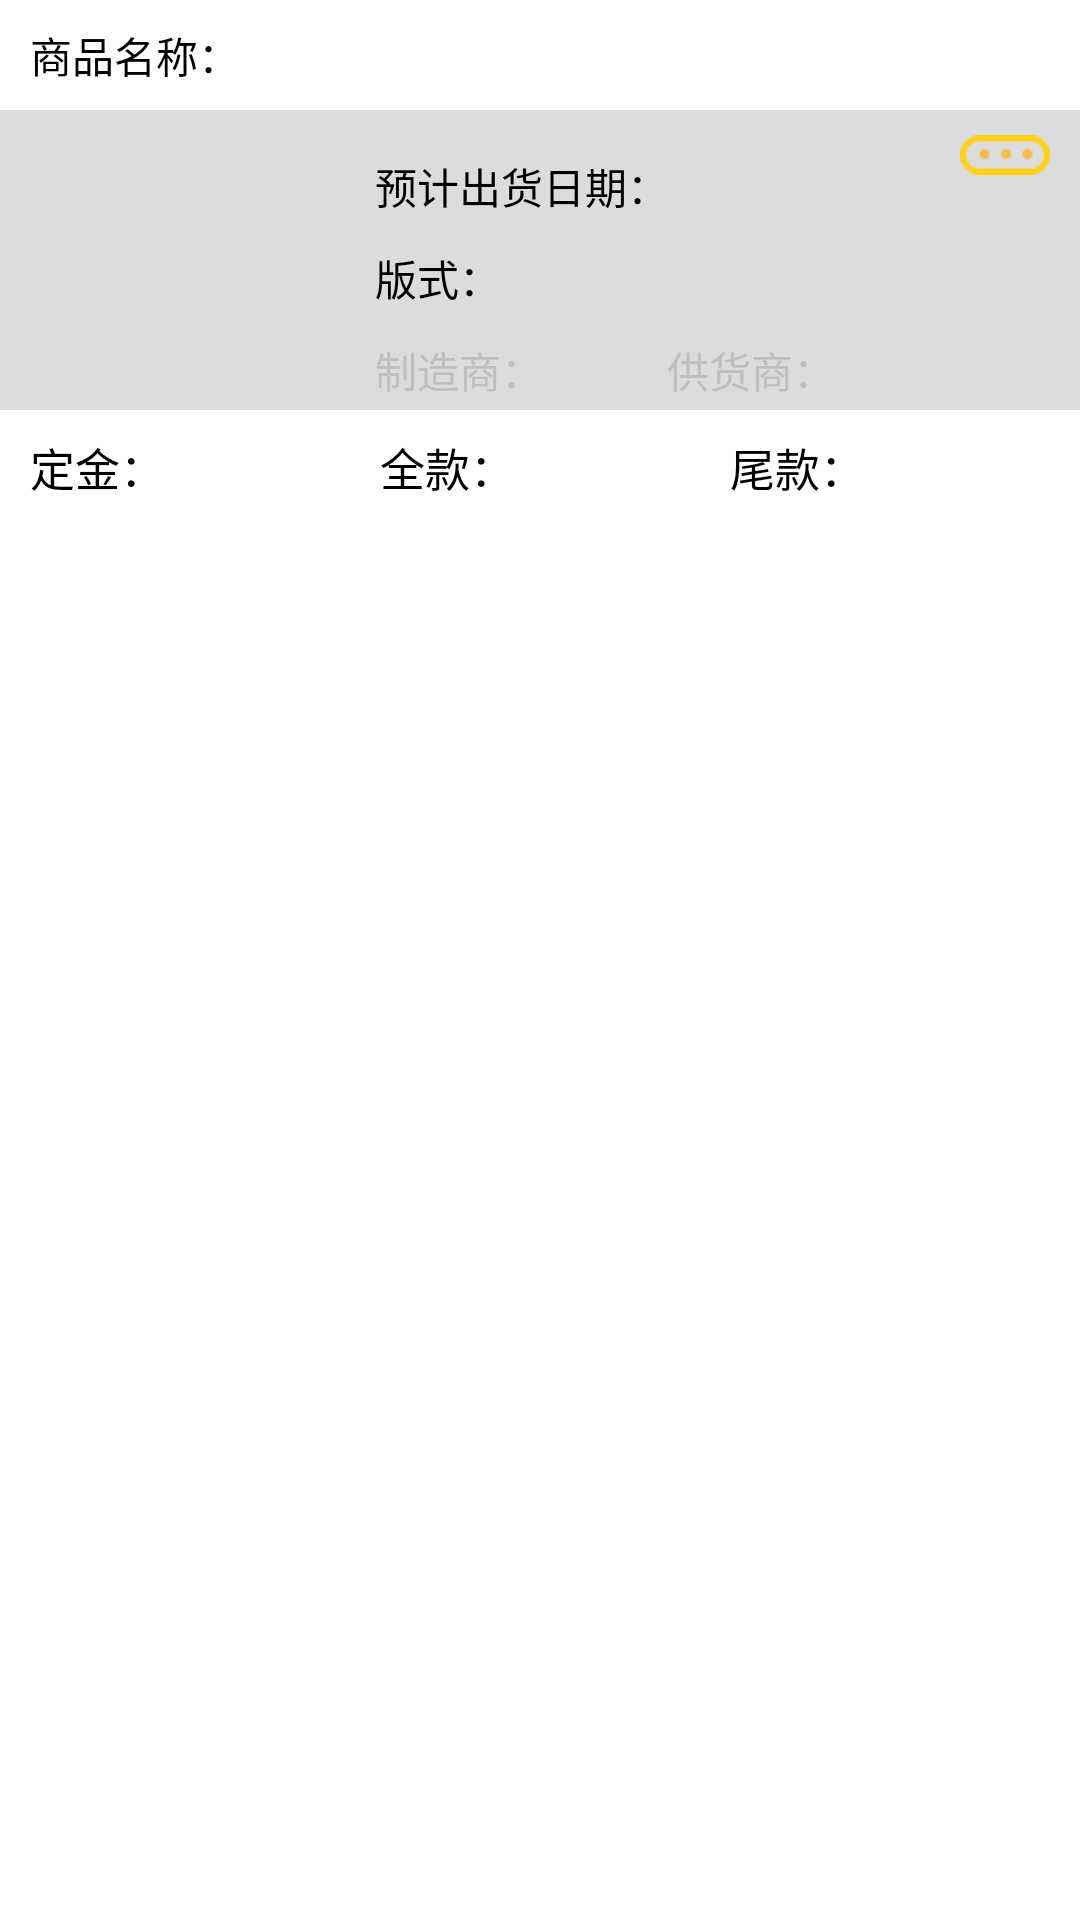

Locate icon controls on the screen. Image size 1080×1920, boxes as (x1, y1, x2, y2).
othericon: (960, 135, 1050, 175)
